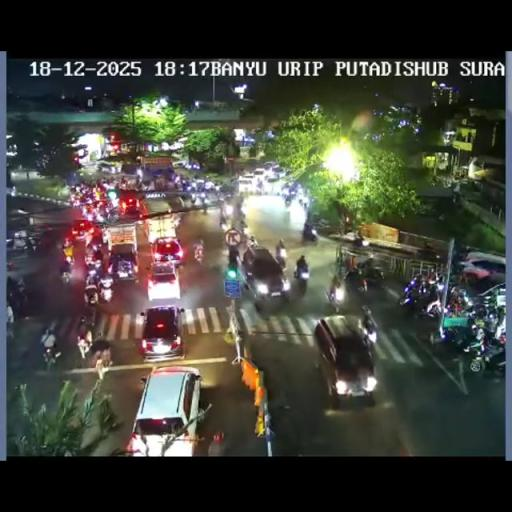Car: (125, 364, 203, 454), (313, 315, 378, 406), (234, 240, 290, 306), (138, 304, 186, 361), (458, 251, 506, 288), (108, 242, 138, 282), (150, 236, 184, 267), (68, 218, 96, 242), (119, 196, 143, 218), (252, 168, 270, 190), (237, 174, 254, 194), (98, 161, 122, 174), (262, 161, 282, 174), (171, 160, 188, 169)
Motorcycle: (464, 330, 505, 374), (437, 317, 476, 353), (400, 284, 430, 318), (91, 339, 113, 378), (482, 287, 506, 319), (6, 283, 28, 317), (445, 287, 469, 316), (344, 268, 366, 298), (76, 318, 93, 354), (42, 341, 62, 371), (292, 262, 310, 292), (326, 282, 343, 312), (85, 259, 103, 286), (362, 316, 378, 346), (419, 240, 439, 262), (424, 296, 442, 318), (232, 215, 248, 238), (354, 254, 373, 272), (422, 268, 441, 286), (83, 285, 99, 306), (302, 225, 318, 245), (314, 218, 334, 234), (24, 236, 42, 253), (98, 284, 114, 302), (192, 242, 204, 264), (6, 306, 14, 339), (220, 200, 234, 218), (456, 246, 471, 262), (353, 233, 369, 247), (222, 186, 236, 201), (105, 205, 118, 221), (228, 247, 238, 267), (218, 214, 229, 232), (276, 252, 286, 270), (234, 196, 244, 214), (342, 216, 352, 234), (60, 269, 71, 285), (198, 192, 208, 209), (246, 234, 258, 248), (70, 194, 82, 208), (452, 190, 462, 206), (172, 174, 182, 189), (212, 182, 222, 196), (134, 175, 142, 190), (284, 194, 293, 207), (178, 194, 184, 209), (6, 261, 16, 270), (140, 181, 148, 191), (190, 191, 196, 204), (298, 198, 304, 208)
